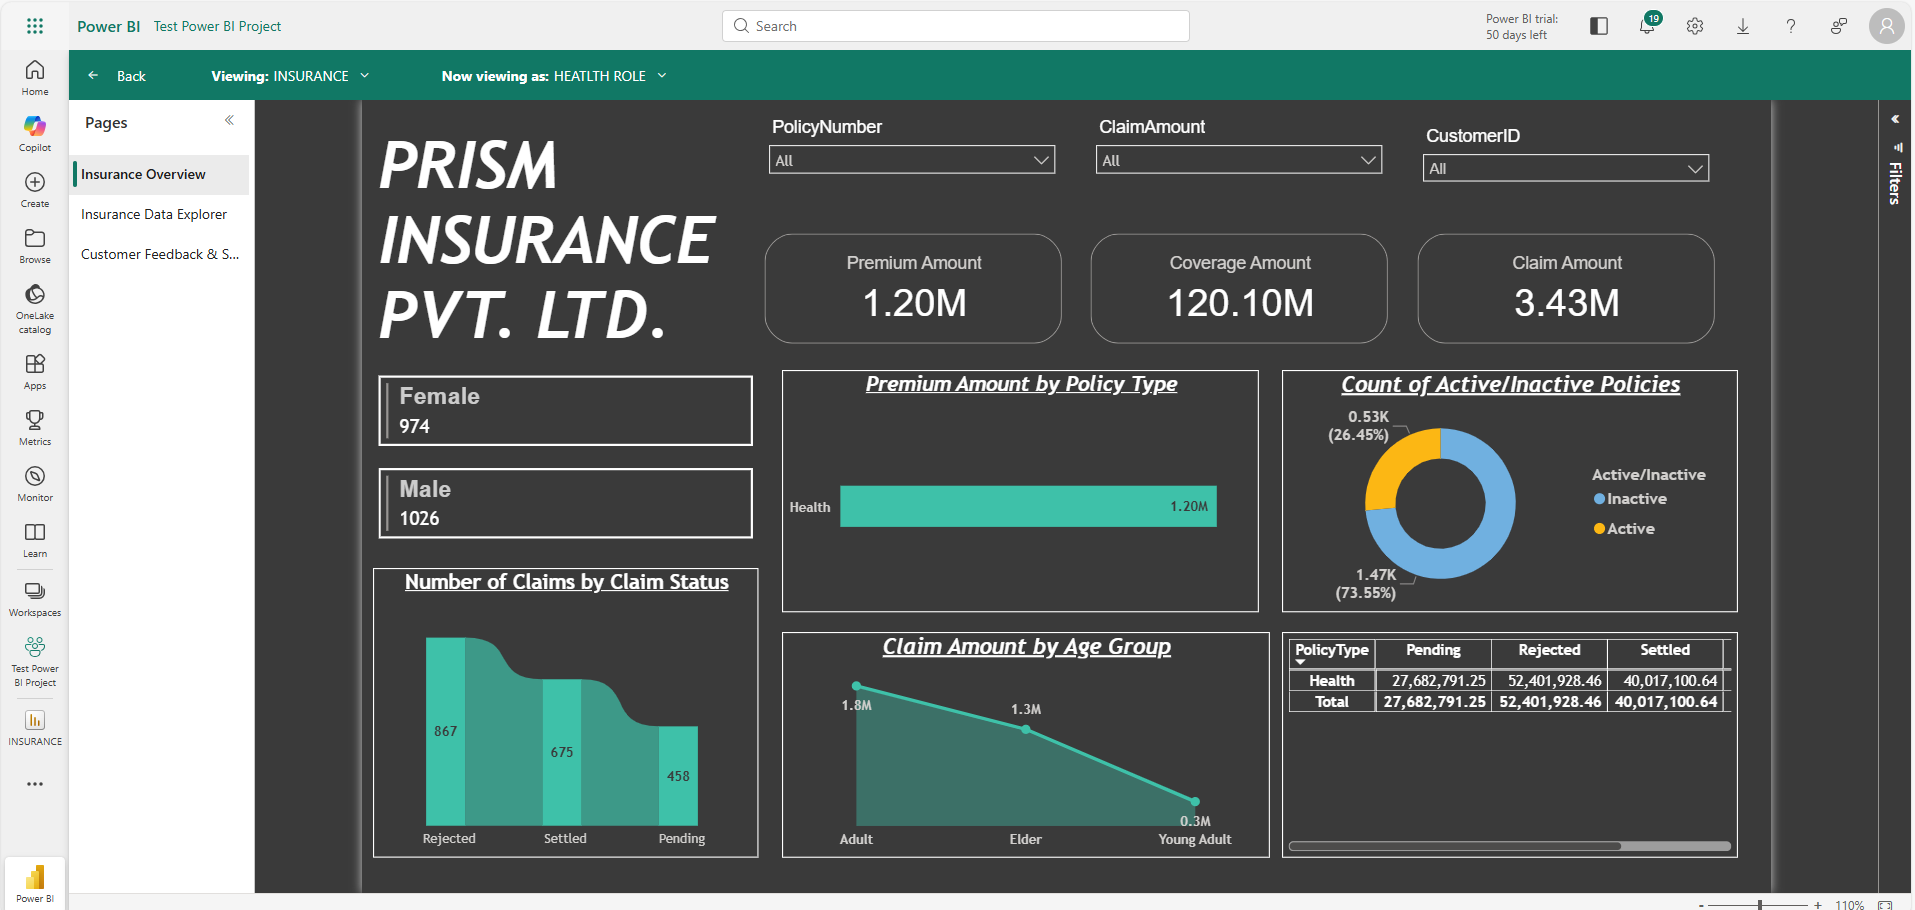

This screenshot's page, from the dashboard's own definition file:
{"tool":"powerbi","page":{"name":"Insurance Overview ","canvas":[1280,720],"ordinal":0},"visuals":[{"type":"slicer","fields":{"Values":["InsuranceData.PolicyNumber"]},"box":[359.5,10.9,279.9,83.2],"z":0},{"type":"slicer","fields":{"Values":["InsuranceData.CustomerID"]},"box":[953.1,19.3,281.1,74.8],"z":1000},{"type":"textbox","box":[10,20,321.7,316.7],"z":2000},{"type":"cardVisual","fields":{"Data":["Sum(InsuranceData.PremiumAmount)"]},"box":[360,116.7,280,110],"z":3000},{"type":"cardVisual","fields":{"Data":["Sum(InsuranceData.CoverageAmount)"]},"box":[656.7,116.7,280,110],"z":4000},{"type":"cardVisual","fields":{"Data":["Sum(InsuranceData.ClaimAmount)"]},"box":[953.3,116.7,280,110],"z":5000},{"type":"multiRowCard","fields":{"Values":["InsuranceData.Gender","CountNonNull(InsuranceData.Gender)"]},"box":[9.7,244.9,349.9,179.8],"z":6000},{"type":"ribbonChart","title":"Number of Claims by Claim Status","fields":{"Category":["InsuranceData.ClaimStatus"],"Y":["CountNonNull(InsuranceData.ClaimStatus)"]},"box":[9.7,424.7,349.9,263],"z":7000},{"type":"barChart","title":"Premium Amount by Policy Type","fields":{"Category":["InsuranceData.PolicyType"],"Y":["Sum(InsuranceData.PremiumAmount)"]},"box":[381.2,244.9,433.1,219.6],"z":8000},{"type":"lineChart","title":"Claim Amount by Age Group","fields":{"Category":["InsuranceData.Age Groups"],"Y":["Sum(InsuranceData.ClaimAmount)"]},"box":[381.2,482.6,442.8,205.1],"z":9000},{"type":"donutChart","title":"Count of Active/Inactive Policies","fields":{"Category":["InsuranceData.Active/Inactive"],"Y":["CountNonNull(InsuranceData.Active/Inactive)"]},"box":[834.9,244.9,413.8,219.6],"z":10000},{"type":"pivotTable","fields":{"Rows":["InsuranceData.PolicyType"],"Columns":["InsuranceData.ClaimStatus"],"Values":["Sum(InsuranceData.CoverageAmount)"]},"box":[835,483,414,205],"z":11000},{"type":"slicer","fields":{"Values":["InsuranceData.ClaimAmount"]},"box":[656.3,10.9,279.9,83.2],"z":13000}]}

Visuals, with their boxes on the page's 1280x720 design canvas (x1, y1, x2, y2). These are canvas units, not pixel positions in the 1915x910 screenshot, which may show the page scaled, cropped or inside an application window:
slicer - InsuranceData.PolicyNumber: [x1=360, y1=11, x2=639, y2=94]
slicer - InsuranceData.CustomerID: [x1=953, y1=19, x2=1234, y2=94]
textbox: [x1=10, y1=20, x2=332, y2=337]
cardVisual - Sum(InsuranceData.PremiumAmount): [x1=360, y1=117, x2=640, y2=227]
cardVisual - Sum(InsuranceData.CoverageAmount): [x1=657, y1=117, x2=937, y2=227]
cardVisual - Sum(InsuranceData.ClaimAmount): [x1=953, y1=117, x2=1233, y2=227]
multiRowCard - InsuranceData.Gender x CountNonNull(InsuranceData.Gender): [x1=10, y1=245, x2=360, y2=425]
"Number of Claims by Claim Status" ribbonChart: [x1=10, y1=425, x2=360, y2=688]
"Premium Amount by Policy Type" barChart: [x1=381, y1=245, x2=814, y2=464]
"Claim Amount by Age Group" lineChart: [x1=381, y1=483, x2=824, y2=688]
"Count of Active/Inactive Policies" donutChart: [x1=835, y1=245, x2=1249, y2=464]
pivotTable - InsuranceData.PolicyType x InsuranceData.ClaimStatus: [x1=835, y1=483, x2=1249, y2=688]
slicer - InsuranceData.ClaimAmount: [x1=656, y1=11, x2=936, y2=94]
